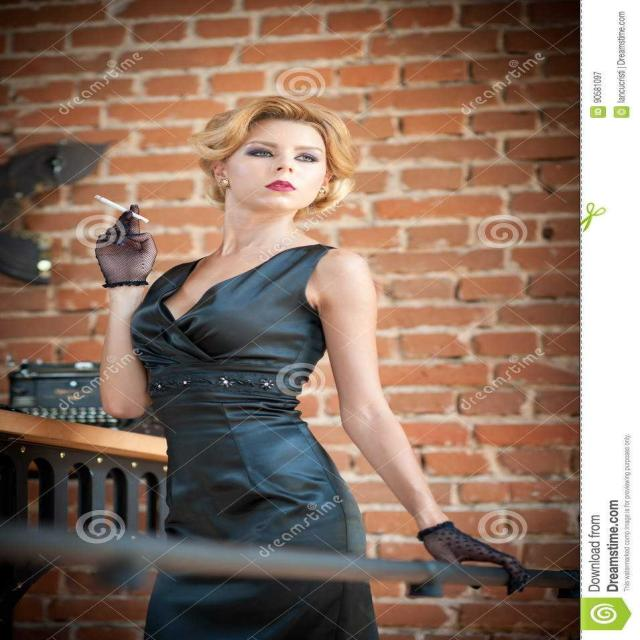Smooking: (85, 184, 173, 229)
